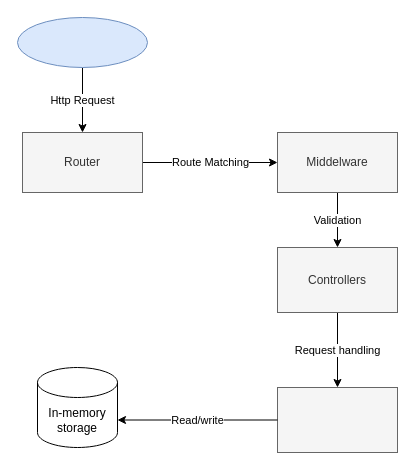
The diagram is 415 pixels wide and 470 high, and some of its shapes have lost their labels. The shapes that lost their labels are listed below. From the top down, each one's box as (x1, y1, x2, y2) in pixels, then its label:
(16, 16, 148, 68): Clients
(276, 386, 398, 452): Services
